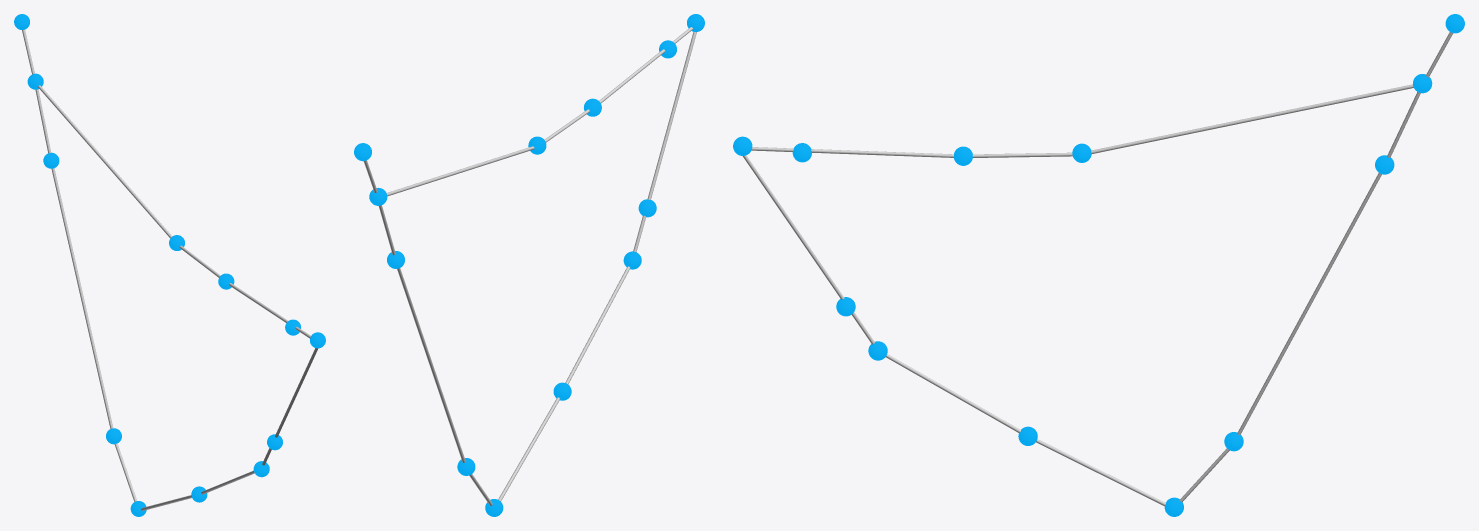
File: Makar.glb
The picture shows the model from 3 angles, left to right: view 1: azimuth 30°, elevation 25°; view 2: azimuth 150°, elevation 25°; view 3: azimuth 270°, elevation 25°; orthographic projection. The views are drawn at different scales.
Visible parts, largest first — view 1: Extra.005; view 2: Extra.005; view 3: Extra.005.
Part boxes in pixels (box(x1,y1,x2,y2)): Extra.005: box(14, 14, 325, 516); Extra.005: box(354, 14, 704, 516); Extra.005: box(733, 14, 1464, 516).
Bounding box in the file's own units: 0.1011 × 2.88 × 3.81.
